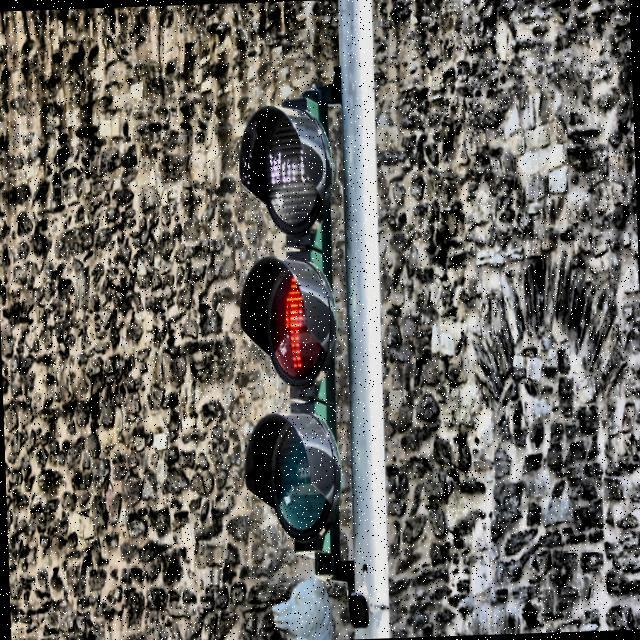red_light: (280, 270, 306, 372)
